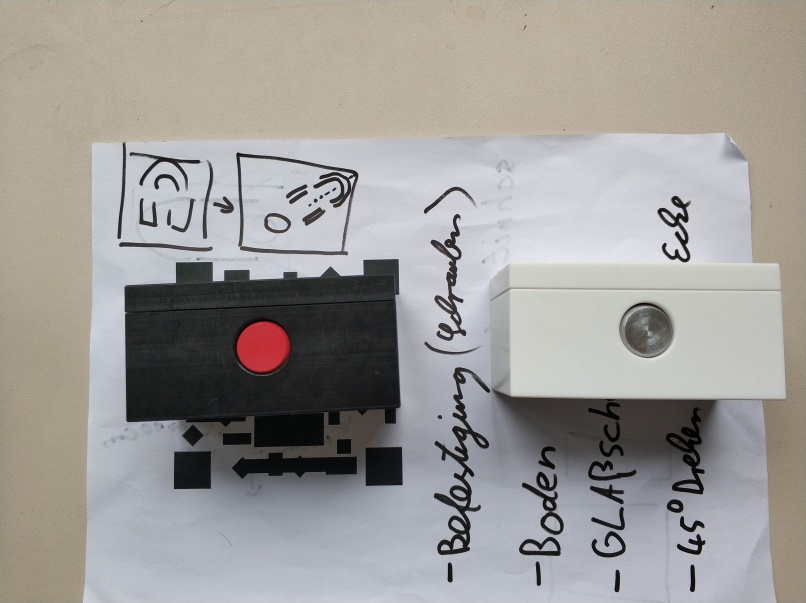black+black+red: (120, 274, 402, 424)
white+white+silver: (485, 260, 789, 402)
